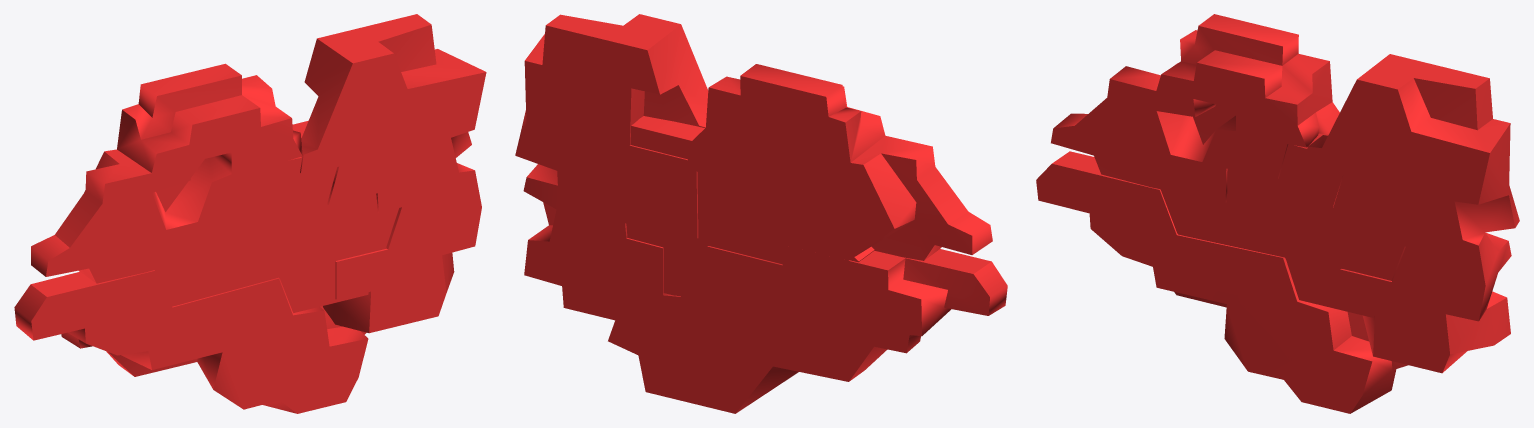
Rendered from DBK_Brick_Prop_Mid_D.fbx.
The picture shows the model from 3 angles, left to right: view 1: azimuth 30°, elevation 25°; view 2: azimuth 150°, elevation 25°; view 3: azimuth 330°, elevation 25°; orthographic projection.
Visible parts, largest first — view 1: DBK_Brick_Prop_Mid_D; view 2: DBK_Brick_Prop_Mid_D; view 3: DBK_Brick_Prop_Mid_D.
Boxes of the visible parts, x1,y1,x2,y2 form: DBK_Brick_Prop_Mid_D: [14, 14, 486, 413]; DBK_Brick_Prop_Mid_D: [515, 14, 1007, 413]; DBK_Brick_Prop_Mid_D: [1036, 14, 1519, 413].
Size of the model in its own units: 154 by 107 by 20.
